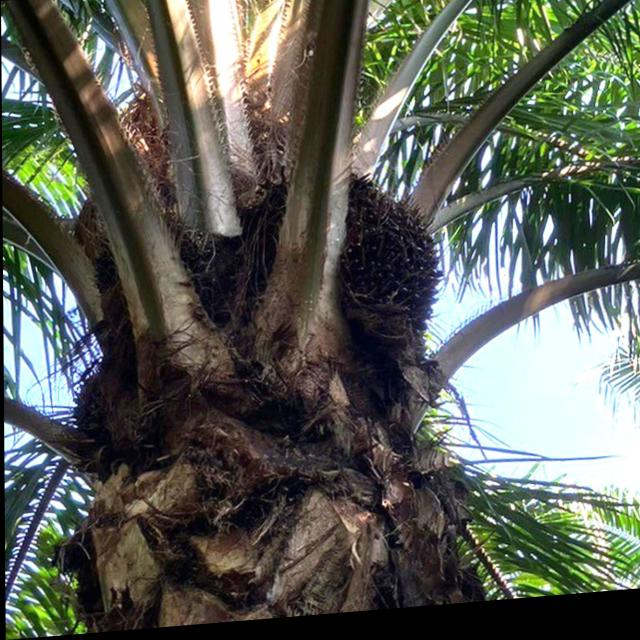ripe: (321, 160, 454, 394)
